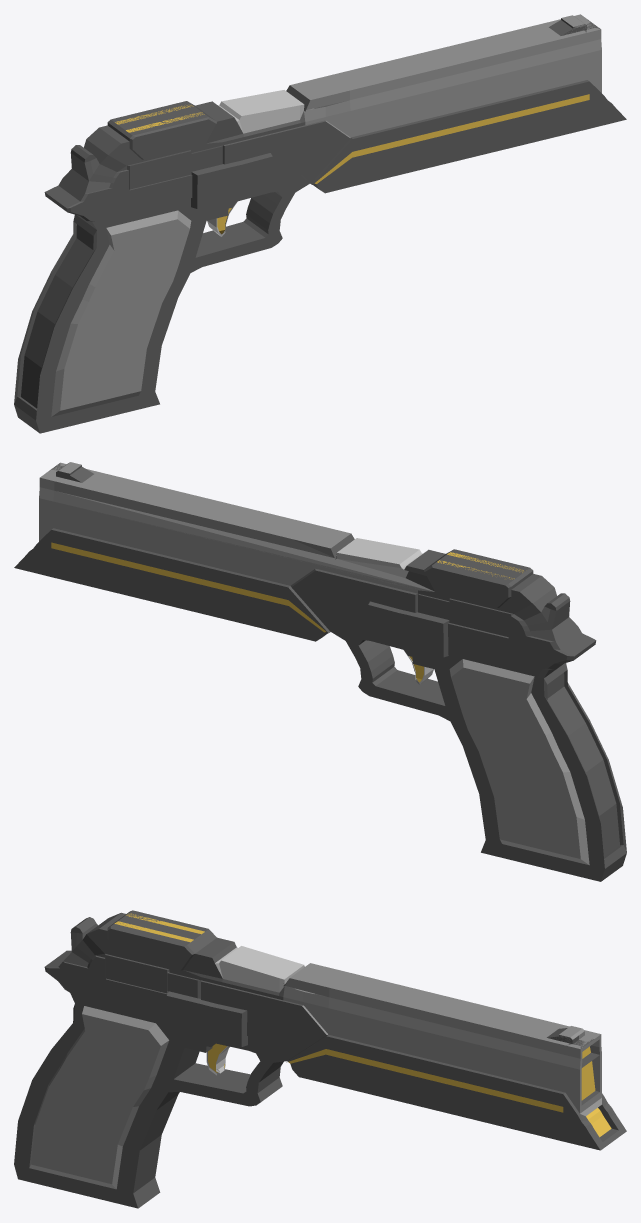
Rendered from Cybergun_Yellow.fbx.
3 renders of one model, top to bottom at view 1: azimuth 30°, elevation 25°; view 2: azimuth 150°, elevation 25°; view 3: azimuth 330°, elevation 25°, orthographic.
Parts seen in each view (by area): view 1: Cube; view 2: Cube; view 3: Cube.
Boxes of the visible parts, x1,y1,x2,y2 form: Cube: [14, 14, 626, 433]; Cube: [14, 462, 626, 881]; Cube: [14, 910, 626, 1208].
Bounding box in the file's own units: 610 × 273 × 55.53.
